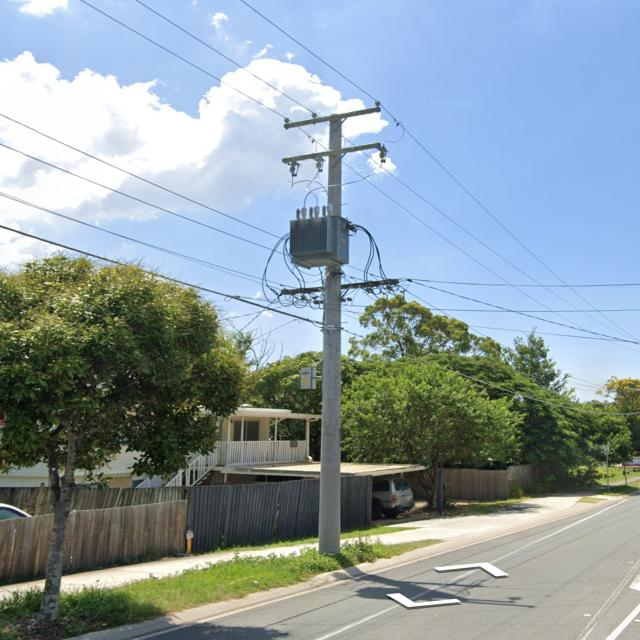HV-transmission: (283, 100, 403, 177)
LV link: (292, 294, 320, 309), (365, 286, 388, 300), (385, 284, 405, 300)
concrete-pole: (319, 114, 341, 555)
crossarm: (282, 142, 382, 164), (280, 277, 400, 295), (284, 107, 381, 129)
transformer: (288, 203, 350, 270)
